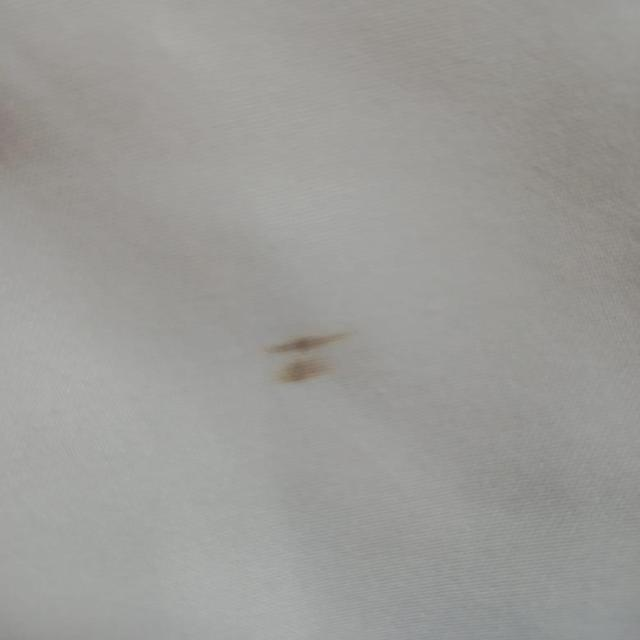stain: (258, 322, 362, 392)
